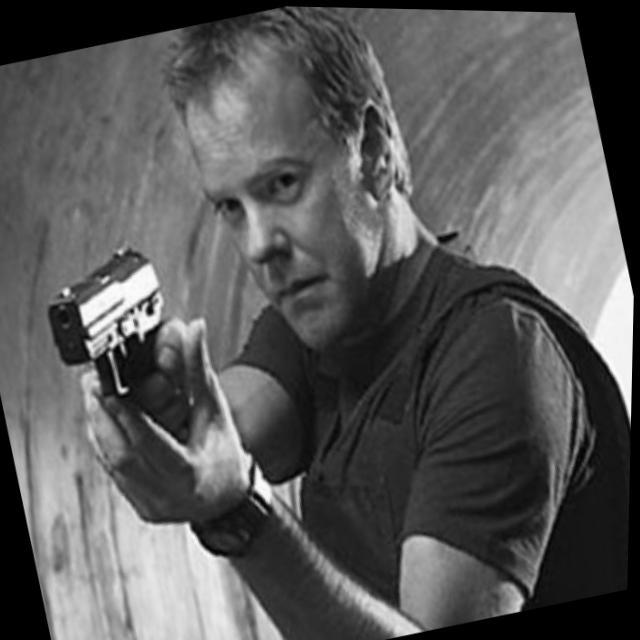weapon: (22, 227, 226, 493)
